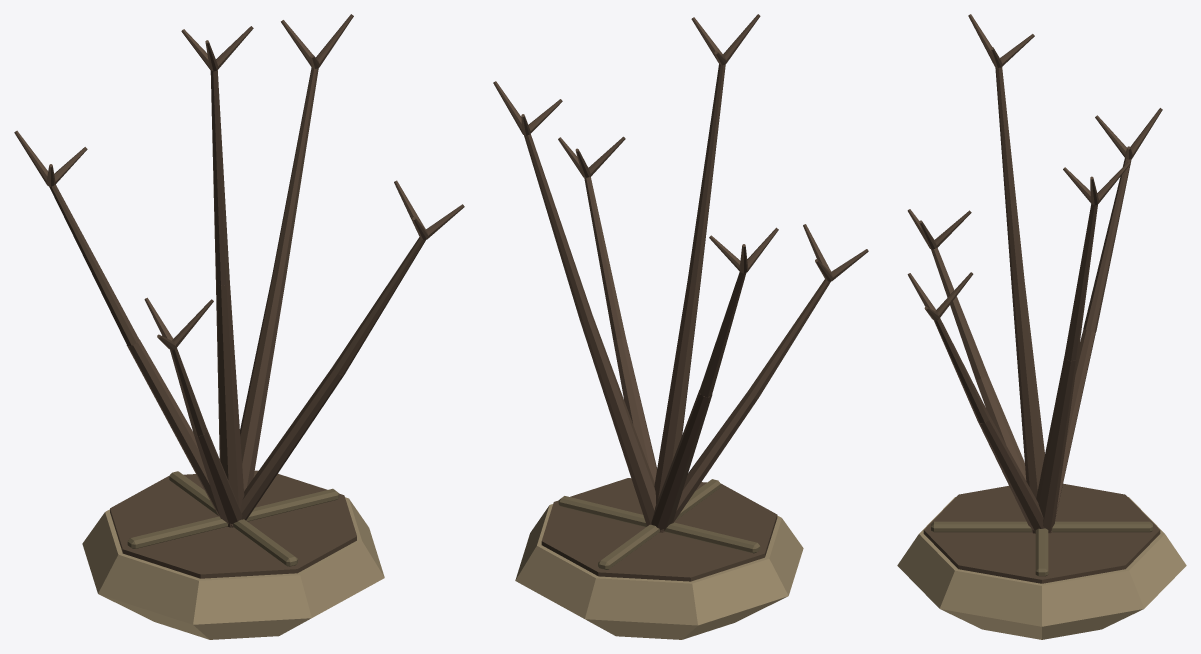
Rendered from elderberry_packed_winter.glb.
3 views of the same model, side by side, from view 1: azimuth 30°, elevation 25°; view 2: azimuth 150°, elevation 25°; view 3: azimuth 270°, elevation 25° (orthographic). The views are drawn at different scales.
Visible parts, largest first — view 1: elderberry_packed_winter; view 2: elderberry_packed_winter; view 3: elderberry_packed_winter.
Boxes of the visible parts, x1,y1,x2,y2 form: elderberry_packed_winter: (14, 14, 464, 639); elderberry_packed_winter: (493, 14, 868, 639); elderberry_packed_winter: (897, 14, 1186, 639).
Bounding box in the file's own units: 1.43 × 2.56 × 1.2.
